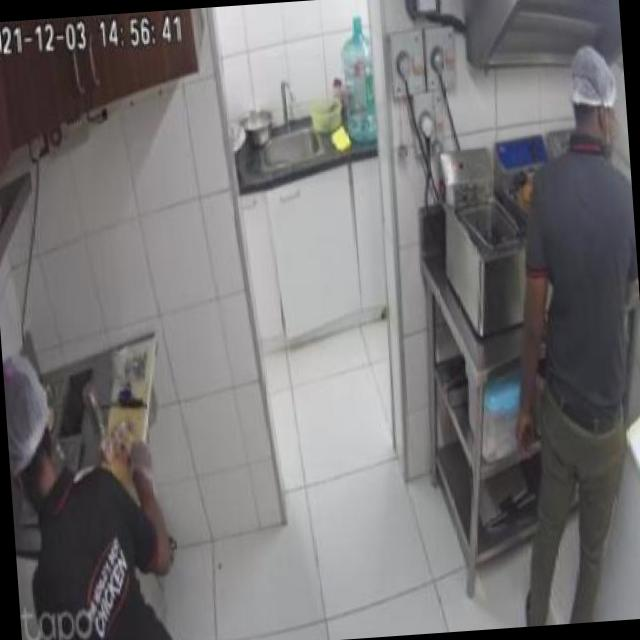hairnet: (1, 352, 52, 464), (568, 51, 620, 108)
